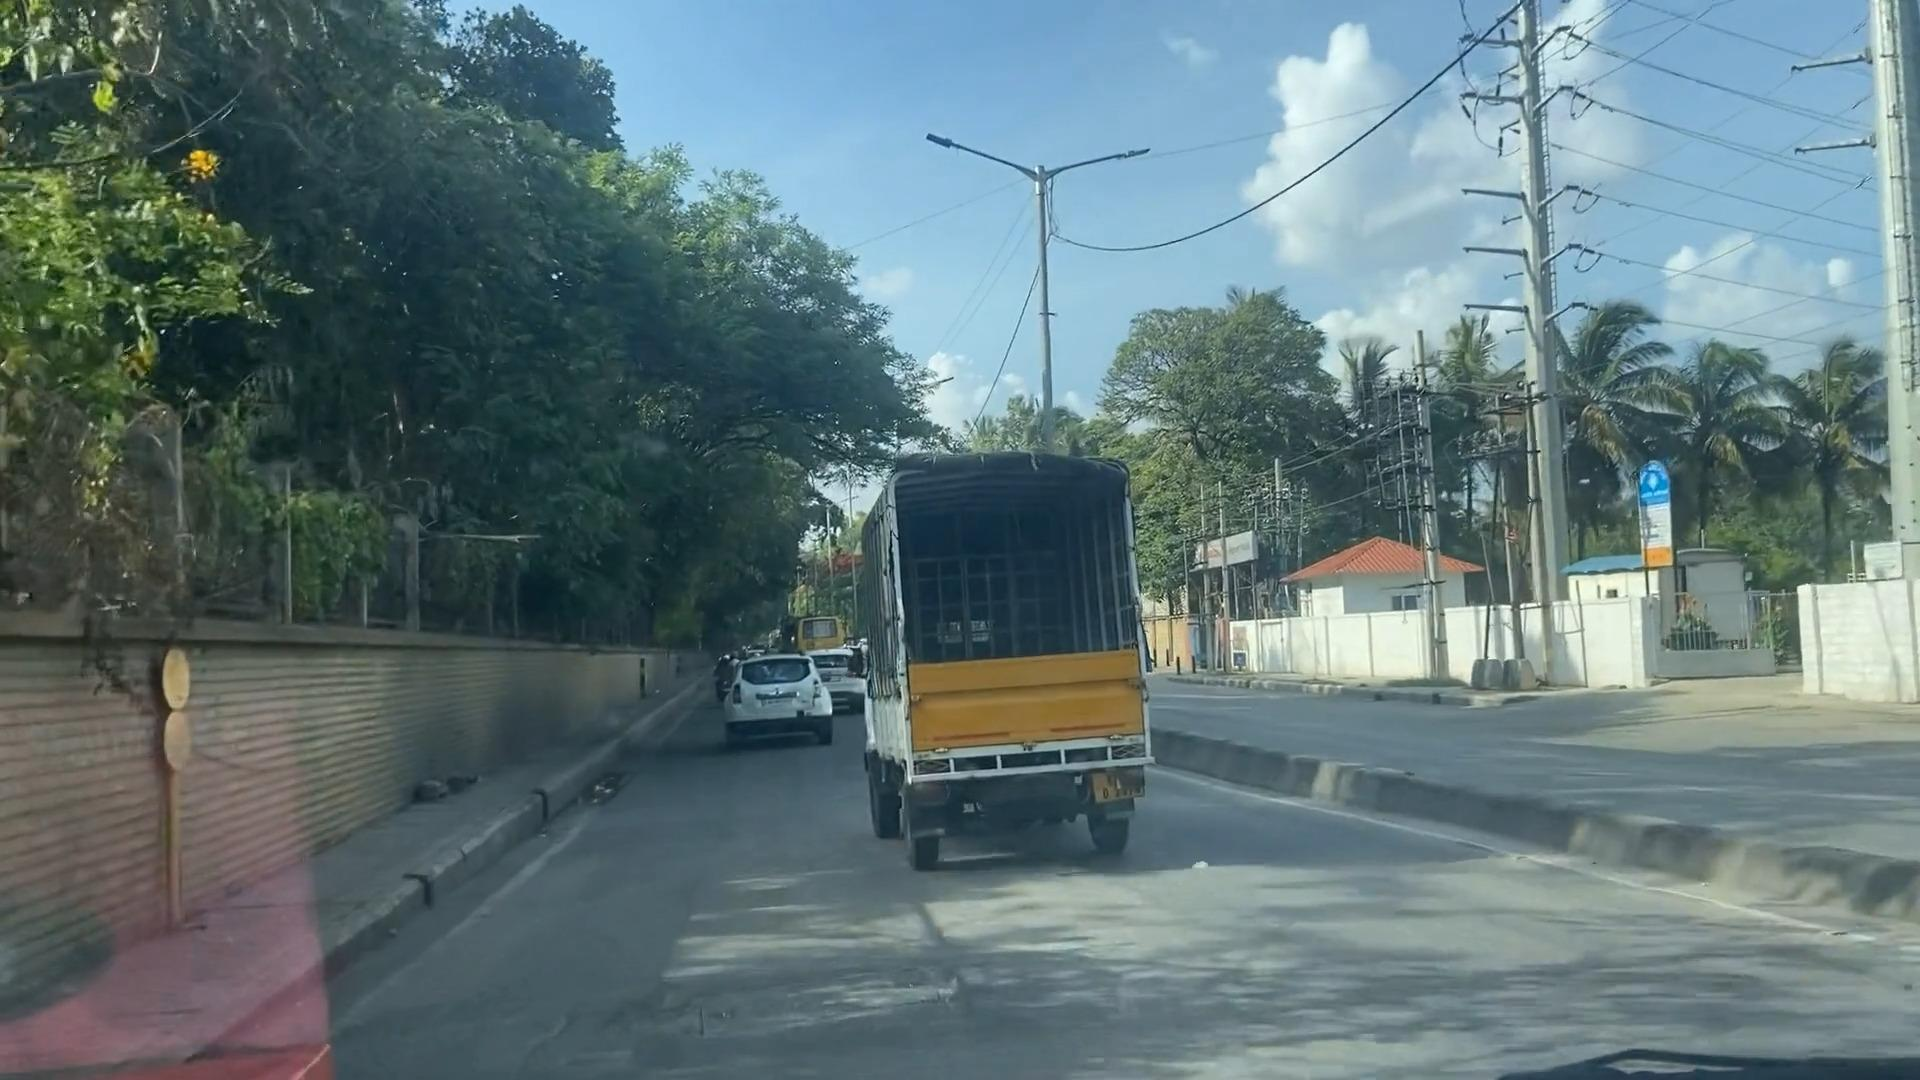LMV: (727, 649, 832, 745)
RoadDamages: (570, 963, 981, 1059)
